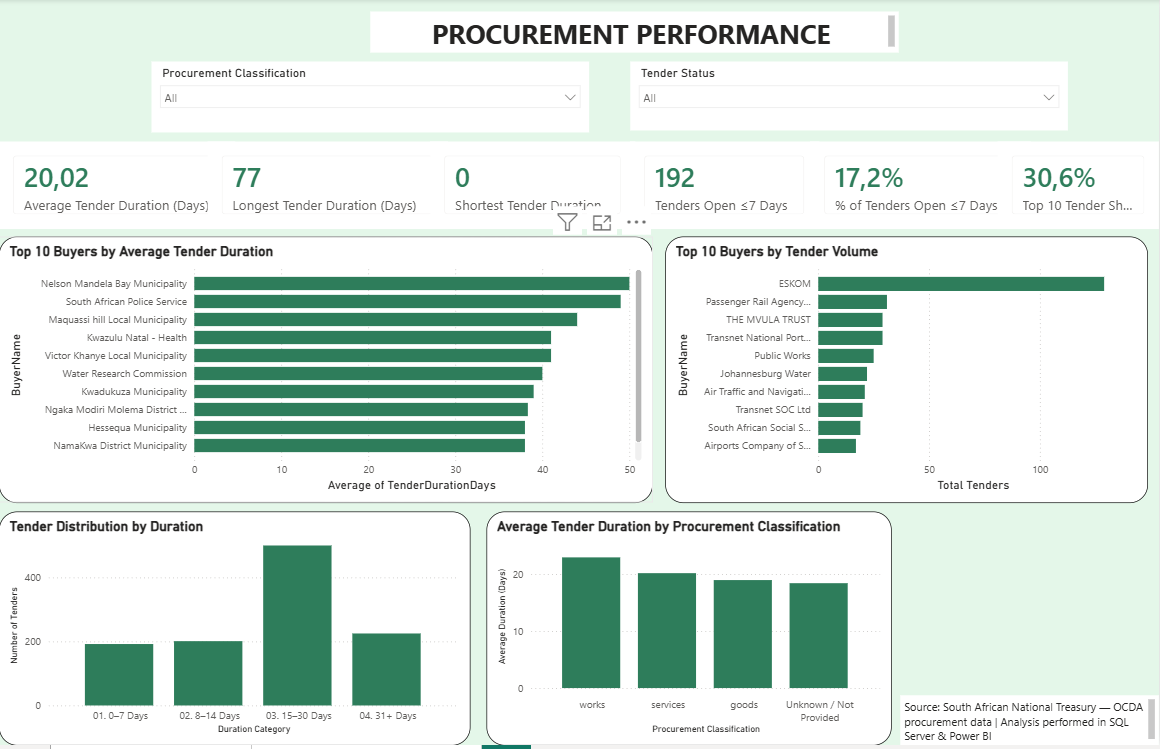

This screenshot's page, from the dashboard's own definition file:
{"tool":"powerbi","page":{"name":"Procurement Performance","canvas":[1400,900],"ordinal":1},"visuals":[{"type":"cardVisual","fields":{"Data":["Avg(Tenders.TenderDurationDays)"]},"box":[0,171.9,285,105.6],"z":0},{"type":"cardVisual","fields":{"Data":["Max(Tenders.TenderDurationDays)"]},"box":[251.8,171.9,289.5,105.6],"z":1000},{"type":"cardVisual","fields":{"Data":["Min(Tenders.TenderDurationDays)"]},"box":[520.3,171.9,247.3,105.6],"z":2000},{"type":"cardVisual","fields":{"Data":["Awards.Short Tenders"]},"box":[761.6,171.9,227.7,105.6],"z":3000},{"type":"cardVisual","fields":{"Data":["Awards.Short Tender %"]},"box":[978.7,171.9,265.4,105.6],"z":4000},{"type":"clusteredColumnChart","title":"Tender Distribution by Duration","fields":{"Category":["Tenders.Duration Category"],"Y":["CountNonNull(Tenders.TenderID)"]},"box":[0,618.3,568.5,282],"z":5000},{"type":"clusteredColumnChart","title":"Average Tender Duration by Procurement Classification","fields":{"Category":["Tenders.ProcurementClassification"],"Y":["Avg(Tenders.TenderDurationDays)"]},"box":[588.1,618.3,488.6,282],"z":6000},{"type":"clusteredBarChart","title":"Top 10 Buyers by Average Tender Duration","fields":{"Category":["Tenders.BuyerName"],"Y":["Avg(Tenders.TenderDurationDays)"]},"box":[0,286.5,788.7,321.2],"z":7000},{"type":"slicer","fields":{"Values":["Tenders.ProcurementClassification"]},"box":[184,75.4,527.8,86],"z":8000},{"type":"cardVisual","fields":{"Data":["Awards.Top 10 Tender Share"]},"box":[1204.9,171.9,194.5,105.6],"z":9000},{"type":"clusteredBarChart","title":"Top 10 Buyers by Tender Volume","fields":{"Y":["Awards.Total Tenders"],"Category":["Tenders.BuyerName"]},"box":[803.8,286.5,582.1,321.2],"z":10000},{"type":"textbox","box":[447.9,15.1,637.9,49.8],"z":11000},{"type":"slicer","fields":{"Values":["Tenders.TenderStatus"]},"box":[761.6,75.4,527.8,82.9],"z":12000},{"type":"textbox","box":[1087.3,840,312.2,60.3],"z":13000}]}

Visuals, with their boxes in screenshot pixels (x1, y1, x2, y2), scaled from the page's 1400x900 canvas onto the 1160x749 screenshot:
cardVisual - Avg(Tenders.TenderDurationDays): detection(0, 143, 236, 231)
cardVisual - Max(Tenders.TenderDurationDays): detection(209, 143, 449, 231)
cardVisual - Min(Tenders.TenderDurationDays): detection(431, 143, 636, 231)
cardVisual - Awards.Short Tenders: detection(631, 143, 820, 231)
cardVisual - Awards.Short Tender %: detection(811, 143, 1031, 231)
"Tender Distribution by Duration" clusteredColumnChart: detection(0, 515, 471, 748)
"Average Tender Duration by Procurement Classification" clusteredColumnChart: detection(487, 515, 892, 748)
"Top 10 Buyers by Average Tender Duration" clusteredBarChart: detection(0, 238, 653, 506)
slicer - Tenders.ProcurementClassification: detection(152, 63, 590, 134)
cardVisual - Awards.Top 10 Tender Share: detection(998, 143, 1159, 231)
"Top 10 Buyers by Tender Volume" clusteredBarChart: detection(666, 238, 1148, 506)
textbox: detection(371, 13, 900, 54)
slicer - Tenders.TenderStatus: detection(631, 63, 1068, 132)
textbox: detection(901, 699, 1159, 748)
